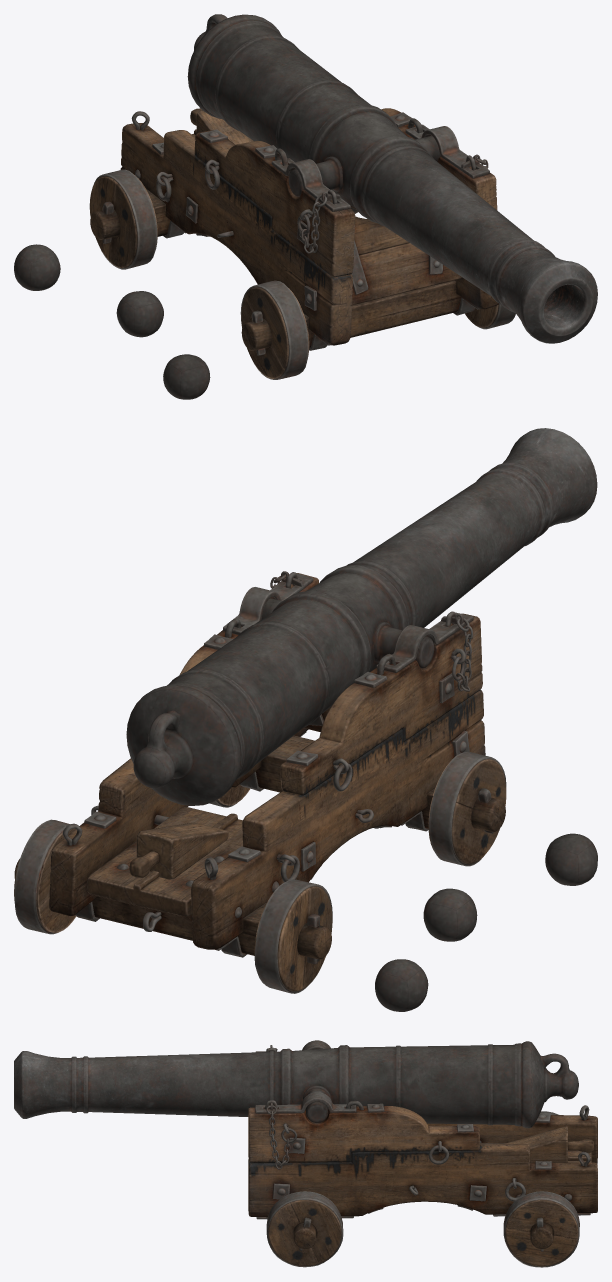
The model's file is cannon_01_2k.gltf.
3 renders of one model, top to bottom at view 1: azimuth 30°, elevation 25°; view 2: azimuth 150°, elevation 25°; view 3: azimuth 270°, elevation 25°, orthographic. The views are drawn at different scales.
Parts seen in each view (by area): view 1: cannon_01_frame, cannon_01_barrel, cannon_01_wheel_02, cannon_01_wheel_01, cannon_01_ball_02, cannon_01_ball_03, cannon_01_ball_01, cannon_01_pusherblock, cannon_01_wheel_03; view 2: cannon_01_frame, cannon_01_barrel, cannon_01_wheel_01, cannon_01_wheel_02, cannon_01_wheel_04, cannon_01_pusherblock, cannon_01_ball_02, cannon_01_ball_03, cannon_01_ball_01; view 3: cannon_01_barrel, cannon_01_frame, cannon_01_wheel_04, cannon_01_wheel_03, cannon_01_pusherblock.
Part boxes in pixels (bbox=[...]): cannon_01_frame: bbox=[90, 108, 498, 355]; cannon_01_barrel: bbox=[187, 14, 597, 343]; cannon_01_wheel_02: bbox=[89, 169, 157, 269]; cannon_01_wheel_01: bbox=[240, 280, 309, 379]; cannon_01_ball_02: bbox=[116, 291, 163, 337]; cannon_01_ball_03: bbox=[14, 244, 60, 290]; cannon_01_ball_01: bbox=[163, 354, 210, 399]; cannon_01_pusherblock: bbox=[190, 108, 253, 144]; cannon_01_wheel_03: bbox=[465, 304, 515, 329]; cannon_01_frame: bbox=[14, 571, 505, 964]; cannon_01_barrel: bbox=[126, 428, 597, 805]; cannon_01_wheel_01: bbox=[428, 752, 506, 866]; cannon_01_wheel_02: bbox=[254, 879, 332, 993]; cannon_01_wheel_04: bbox=[14, 819, 76, 934]; cannon_01_pusherblock: bbox=[129, 822, 228, 879]; cannon_01_ball_02: bbox=[423, 888, 477, 941]; cannon_01_ball_03: bbox=[375, 959, 428, 1011]; cannon_01_ball_01: bbox=[545, 833, 597, 885]; cannon_01_barrel: bbox=[14, 1041, 578, 1128]; cannon_01_frame: bbox=[248, 1040, 597, 1251]; cannon_01_wheel_04: bbox=[503, 1191, 579, 1267]; cannon_01_wheel_03: bbox=[266, 1191, 343, 1267]; cannon_01_pusherblock: bbox=[504, 1126, 593, 1163].
Bounding box in the file's own units: 1.23 × 0.7759 × 2.3.
1 material, 1 textured.
